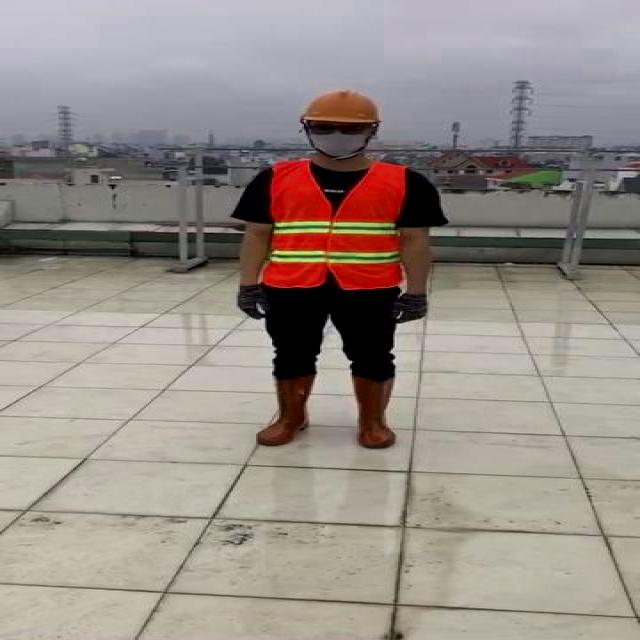boots: (254, 372, 322, 448), (354, 374, 400, 450)
face_mask: (307, 120, 374, 157)
glasses: (304, 120, 377, 138)
hand_glove: (391, 293, 436, 326), (238, 286, 268, 320)
head_helmet: (295, 90, 388, 126)
person: (224, 84, 452, 457)
vest: (254, 161, 406, 290)
